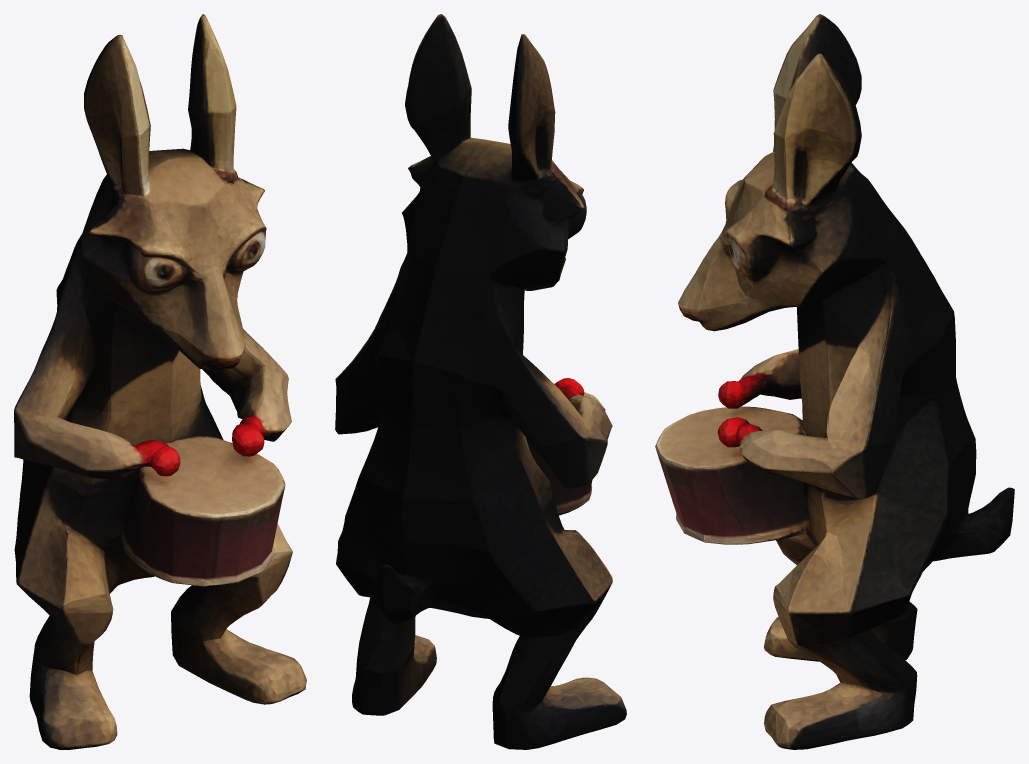
File: sample (2).glb
3 views of the same model, side by side, from view 1: azimuth 30°, elevation 25°; view 2: azimuth 150°, elevation 25°; view 3: azimuth 270°, elevation 25° (orthographic). The views are drawn at different scales.
Visible parts, largest first — view 1: world; view 2: world; view 3: world.
Part boxes in pixels (box(x1,y1,x2,y2)): world: box(14, 14, 306, 749); world: box(335, 14, 626, 749); world: box(655, 14, 1014, 749).
Bounding box in the file's own units: 0.4048 × 1 × 0.4962.
1 material, 1 textured.
